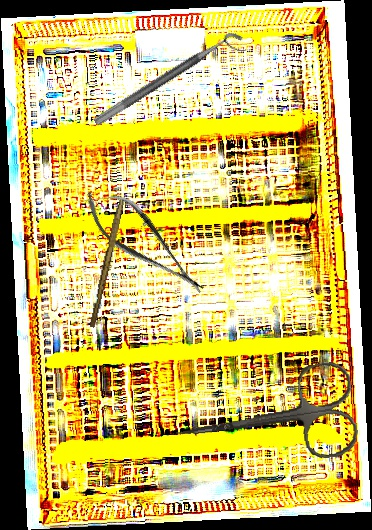Fixation Ring: (92, 27, 250, 139)
Iris Scissors: (169, 359, 361, 479)
Micro Scissor: (73, 175, 216, 310)
Scalpel Handle: (88, 198, 125, 329)
